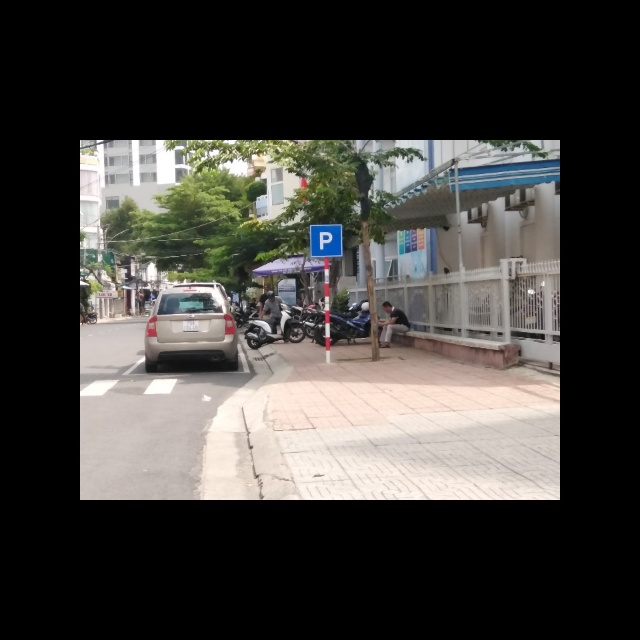Nơi đỗ xe: (311, 224, 344, 257)
